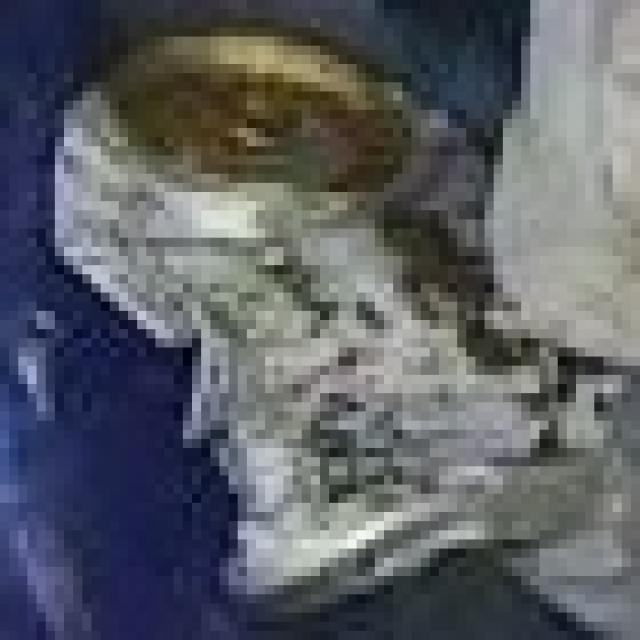can: (21, 1, 640, 640)
